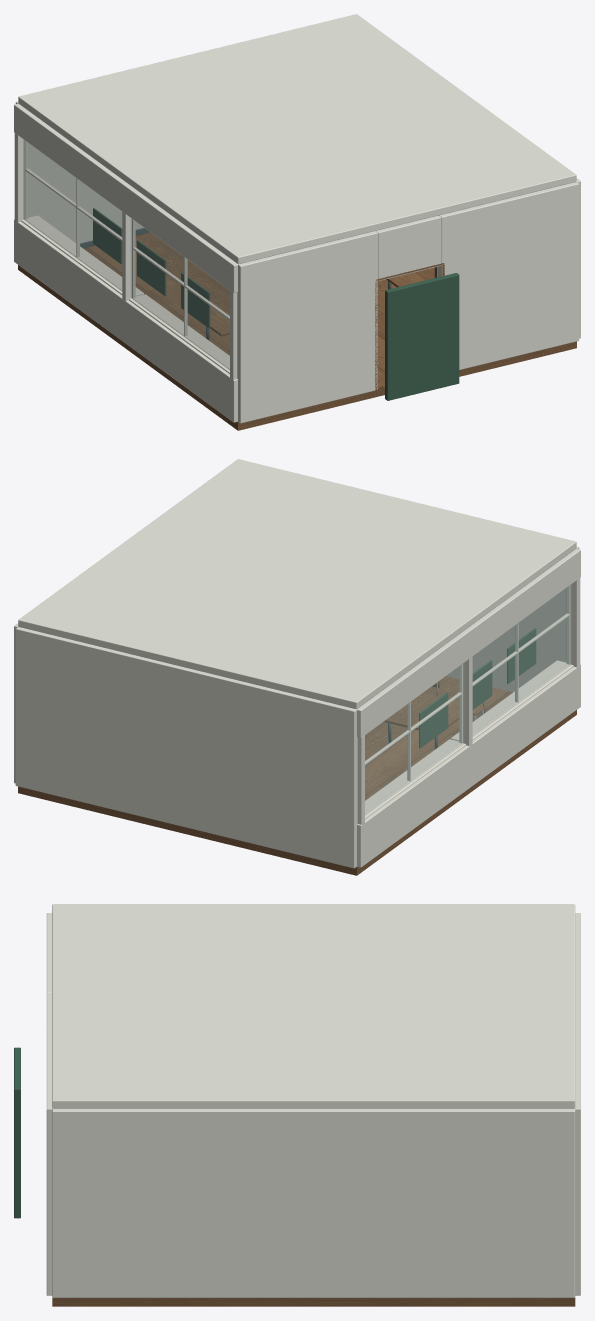
The picture shows the model from 3 angles, top to bottom: view 1: azimuth 30°, elevation 25°; view 2: azimuth 150°, elevation 25°; view 3: azimuth 270°, elevation 25°; orthographic projection. The views are drawn at different scales.
Visible parts, largest first — view 1: 2-3__architecture_and_equipment; view 2: 2-3__architecture_and_equipment; view 3: 2-3__architecture_and_equipment.
Part boxes in pixels (left/top/right/bottom): 2-3__architecture_and_equipment: left=14, top=14, right=580, bottom=430; 2-3__architecture_and_equipment: left=14, top=459, right=580, bottom=875; 2-3__architecture_and_equipment: left=14, top=904, right=580, bottom=1306.
Bounding box in the file's own units: 8.2 × 3.91 × 9.76.
Materials: 11 (1 with a texture image).
